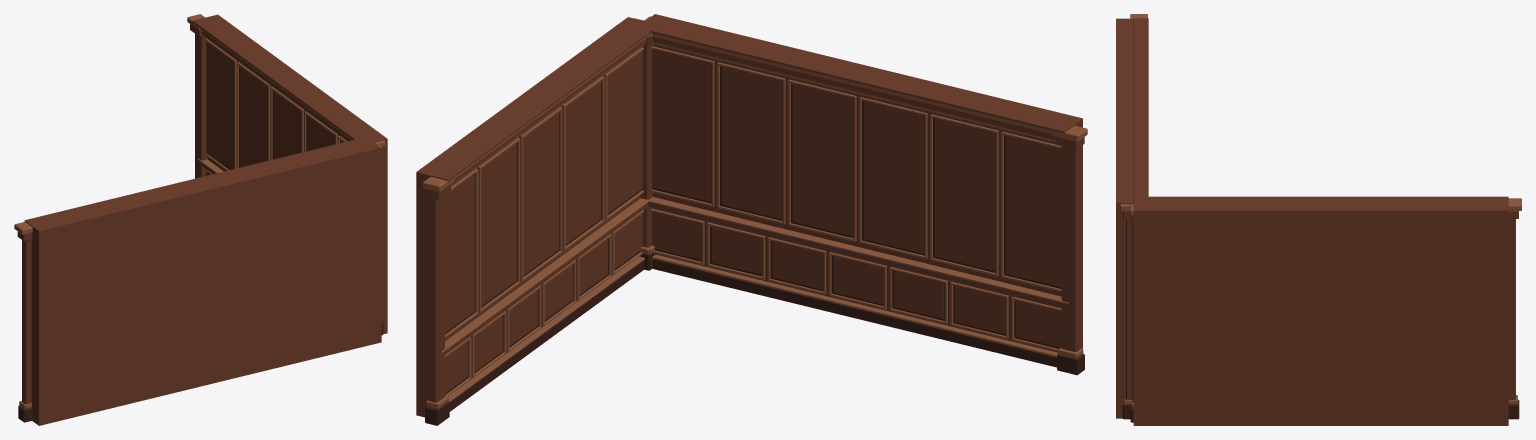
Rendered from main1f_f04_complete_shell.glb.
3 renders of one model, left to right at view 1: azimuth 30°, elevation 25°; view 2: azimuth 150°, elevation 25°; view 3: azimuth 270°, elevation 25°, orthographic. The views are drawn at different scales.
Parts seen in each view (by area): view 1: main1f_f04_front_Wall_Solid_00, main1f_f04_right_Wall_Solid_00, main1f_f04_right_Wall_UpperPanel_00_0_0_Field, main1f_f04_front_Wall_Cornice_00_3_0, main1f_f04_right_Wall_UpperPanel_00_0_1_Field, main1f_f04_right_Wall_Cornice_00_3_0, Pilaster_Shaft_004, Pilaster_Shaft_009, main1f_f04_right_Wall_UpperPanel_00_0_2_Field, main1f_f04_right_Wall_UpperPanel_00_0_3_Field, main1f_f04_right_Wall_Cornice_00_1_0, main1f_f04_right_Wall_Cornice_00_2_0; view 2: main1f_f04_front_Wall_Solid_00, main1f_f04_front_Wall_UpperPanel_00_0_1_Field, main1f_f04_front_Wall_UpperPanel_00_0_2_Field, main1f_f04_front_Wall_UpperPanel_00_0_3_Field, main1f_f04_front_Wall_UpperPanel_00_0_4_Field, main1f_f04_front_Wall_UpperPanel_00_0_0_Field, main1f_f04_front_Wall_UpperPanel_00_0_5_Field, main1f_f04_right_Wall_Solid_00, main1f_f04_right_Wall_UpperPanel_00_0_2_Field, main1f_f04_right_Wall_UpperPanel_00_0_3_Field, main1f_f04_right_Wall_UpperPanel_00_0_1_Field, main1f_f04_right_Wall_UpperPanel_00_0_4_Field (+37 smaller); view 3: main1f_f04_right_Wall_Solid_00, main1f_f04_front_Wall_Solid_00, main1f_f04_right_Wall_Cornice_00_3_0, main1f_f04_front_Wall_Cornice_00_3_0, Pilaster_Shaft_004, Pilaster_Shaft_005.
Part boxes in pixels (x1,y1,x2,y2): main1f_f04_front_Wall_Solid_00: (31, 142, 381, 425); main1f_f04_right_Wall_Solid_00: (205, 14, 387, 334); main1f_f04_right_Wall_UpperPanel_00_0_0_Field: (206, 42, 234, 169); main1f_f04_front_Wall_Cornice_00_3_0: (24, 137, 373, 225); main1f_f04_right_Wall_UpperPanel_00_0_1_Field: (239, 66, 267, 167); main1f_f04_right_Wall_Cornice_00_3_0: (192, 18, 366, 139); Pilaster_Shaft_004: (195, 34, 207, 178); Pilaster_Shaft_009: (22, 240, 31, 404); main1f_f04_right_Wall_UpperPanel_00_0_2_Field: (273, 91, 301, 159); main1f_f04_right_Wall_UpperPanel_00_0_3_Field: (307, 116, 335, 151); main1f_f04_right_Wall_Cornice_00_1_0: (202, 31, 351, 140); main1f_f04_right_Wall_Cornice_00_2_0: (200, 28, 352, 140); main1f_f04_front_Wall_Solid_00: (646, 14, 1082, 352); main1f_f04_front_Wall_UpperPanel_00_0_1_Field: (721, 67, 781, 218); main1f_f04_front_Wall_UpperPanel_00_0_2_Field: (792, 84, 852, 236); main1f_f04_front_Wall_UpperPanel_00_0_3_Field: (863, 102, 923, 253); main1f_f04_front_Wall_UpperPanel_00_0_4_Field: (934, 119, 994, 270); main1f_f04_front_Wall_UpperPanel_00_0_0_Field: (652, 50, 710, 201); main1f_f04_front_Wall_UpperPanel_00_0_5_Field: (1005, 136, 1061, 287); main1f_f04_right_Wall_Solid_00: (416, 17, 644, 417); main1f_f04_right_Wall_UpperPanel_00_0_2_Field: (523, 112, 558, 275); main1f_f04_right_Wall_UpperPanel_00_0_3_Field: (565, 82, 600, 244); main1f_f04_right_Wall_UpperPanel_00_0_1_Field: (481, 143, 516, 305); main1f_f04_right_Wall_UpperPanel_00_0_4_Field: (607, 51, 642, 213); main1f_f04_right_Wall_Solid_00: (1133, 203, 1508, 425); main1f_f04_front_Wall_Solid_00: (1116, 18, 1133, 418); main1f_f04_right_Wall_Cornice_00_3_0: (1134, 196, 1508, 203); main1f_f04_front_Wall_Cornice_00_3_0: (1133, 18, 1148, 202); Pilaster_Shaft_004: (1508, 219, 1515, 399); Pilaster_Shaft_005: (1126, 219, 1132, 399).
Size of the model in its own units: 7.5 by 3.81 by 6.5.
